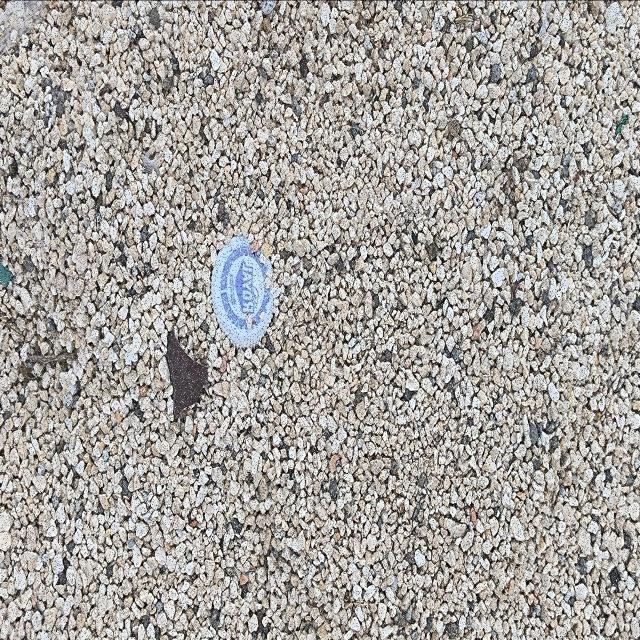plastic_waste: (211, 236, 277, 351)
